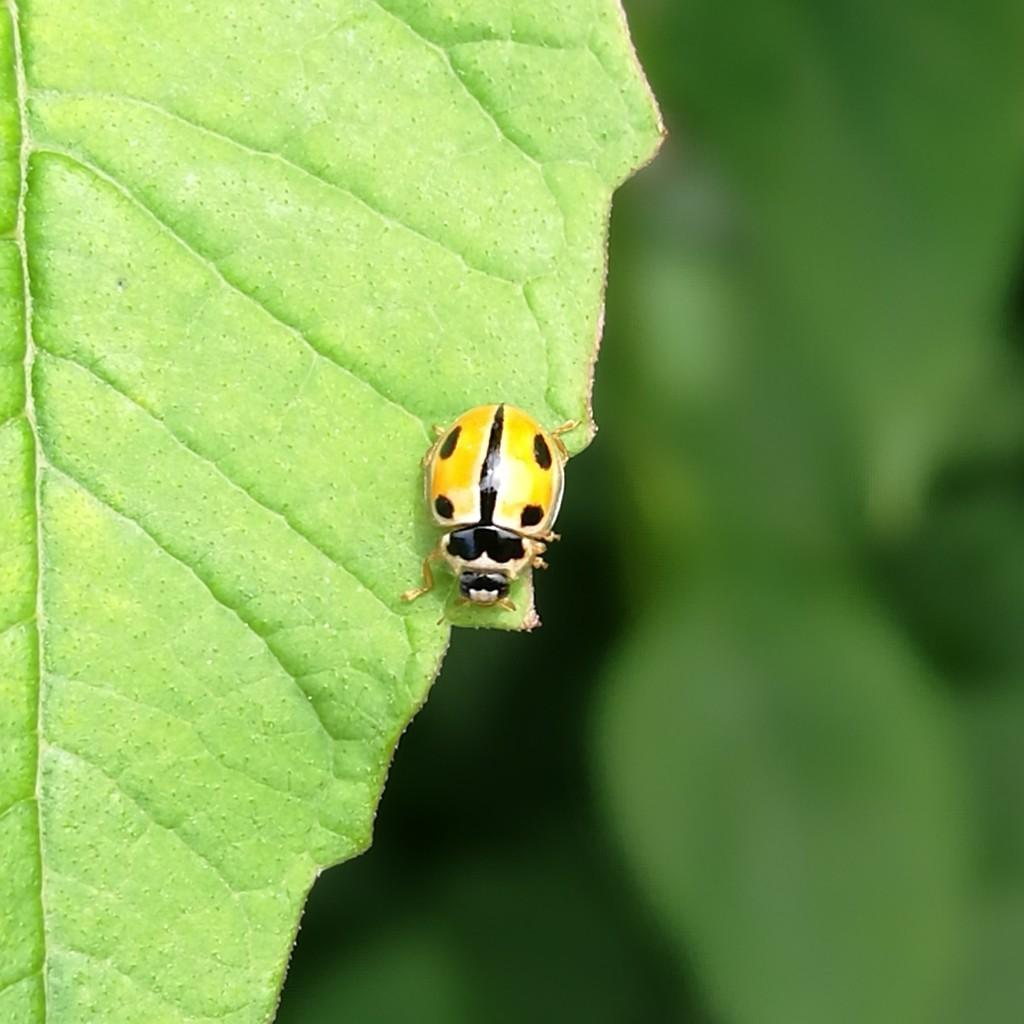ladybug: (401, 401, 584, 624)
